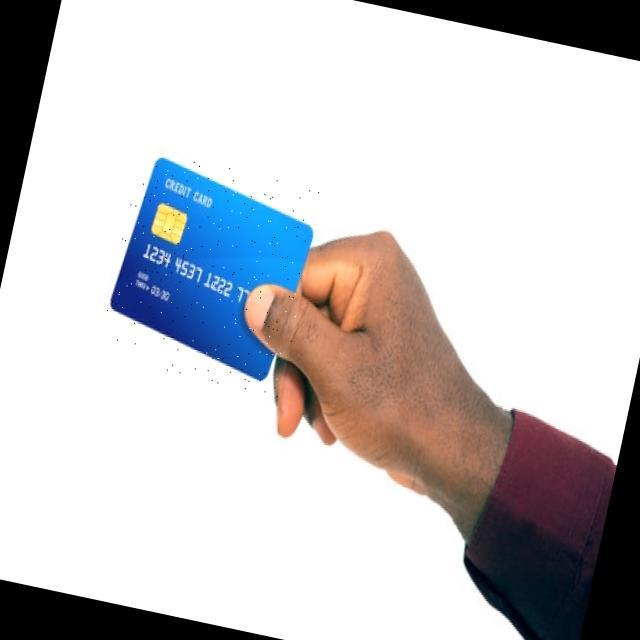payment_card: (108, 155, 314, 382)
